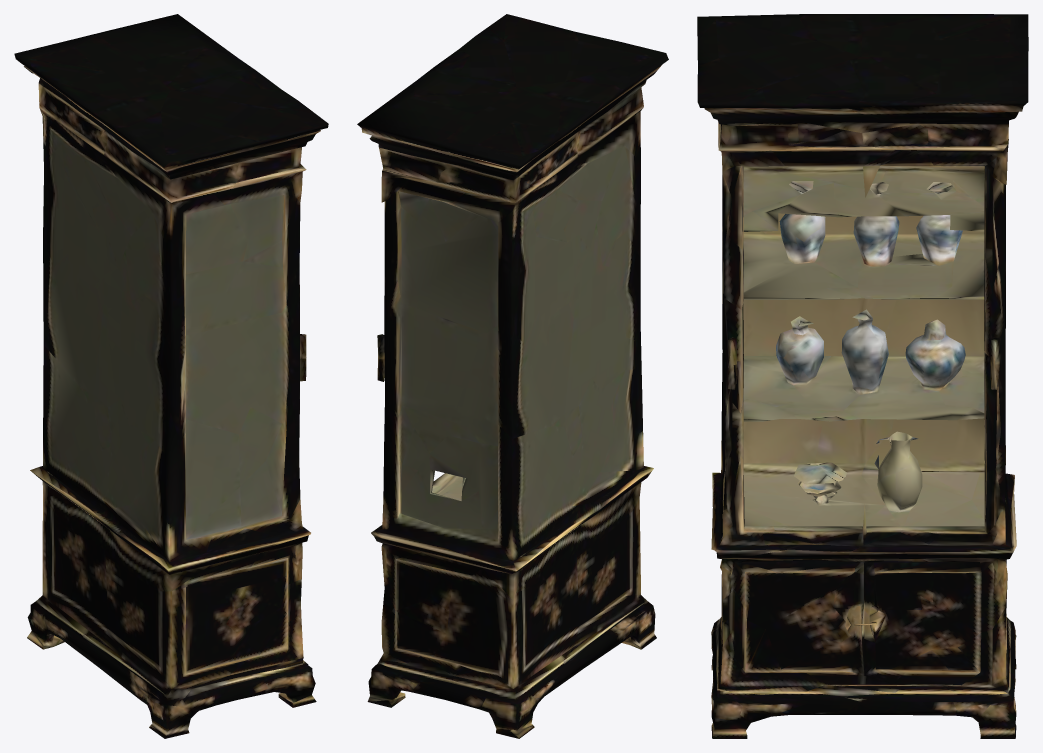
Rendered from au_furn_shelf_imperial.glb.
3 renders of one model, left to right at view 1: azimuth 30°, elevation 25°; view 2: azimuth 150°, elevation 25°; view 3: azimuth 270°, elevation 25°, orthographic. The views are drawn at different scales.
Visible parts, largest first — view 1: tripo_node_ad34d64d-5558-4cfc-9c42-3d14775a1fc5; view 2: tripo_node_ad34d64d-5558-4cfc-9c42-3d14775a1fc5; view 3: tripo_node_ad34d64d-5558-4cfc-9c42-3d14775a1fc5.
Part boxes in pixels (x1=…): tripo_node_ad34d64d-5558-4cfc-9c42-3d14775a1fc5: x1=14, y1=14, x2=328, y2=738; tripo_node_ad34d64d-5558-4cfc-9c42-3d14775a1fc5: x1=357, y1=14, x2=668, y2=738; tripo_node_ad34d64d-5558-4cfc-9c42-3d14775a1fc5: x1=697, y1=14, x2=1028, y2=738.
Bounding box in the file's own units: 0.2905 × 0.9802 × 0.4596.
1 material, 1 textured.
